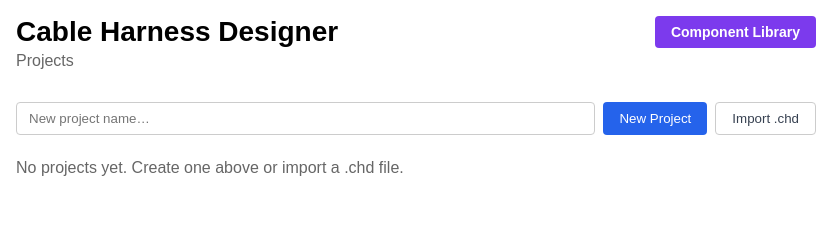
ProjectListScreen › delete button prompts and removes the project
Expected: the text "No projects yet. Create one above or import a .chd file." is shown, [16, 159, 404, 176]
Type "Doomed Project" into the field with placeholder "New project name…" at (306, 118), box [16, 102, 596, 135]
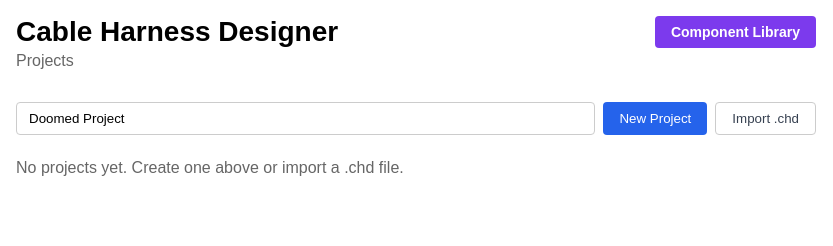
Click the button "New Project" at (655, 118), box [604, 102, 707, 135]
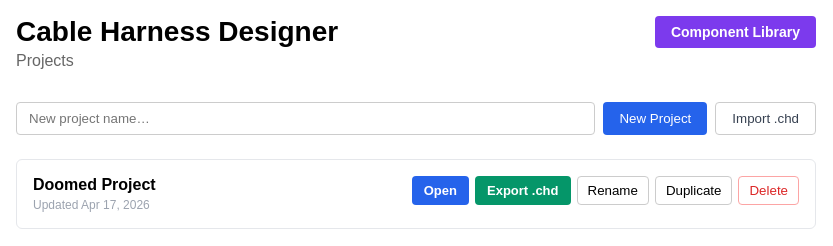
Result: the text "Doomed Project" is shown at [33, 176, 156, 193]
Click the button "Delete" at (769, 190), box [738, 176, 799, 205]
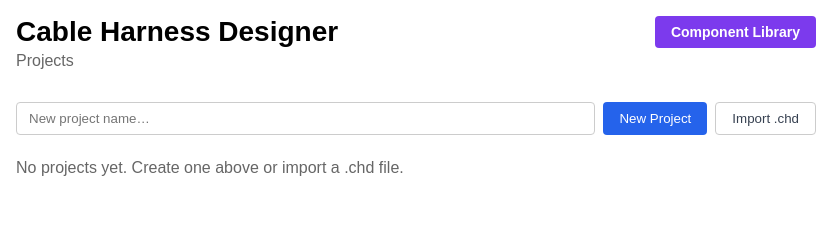
Result: the text "Doomed Project" is gone
